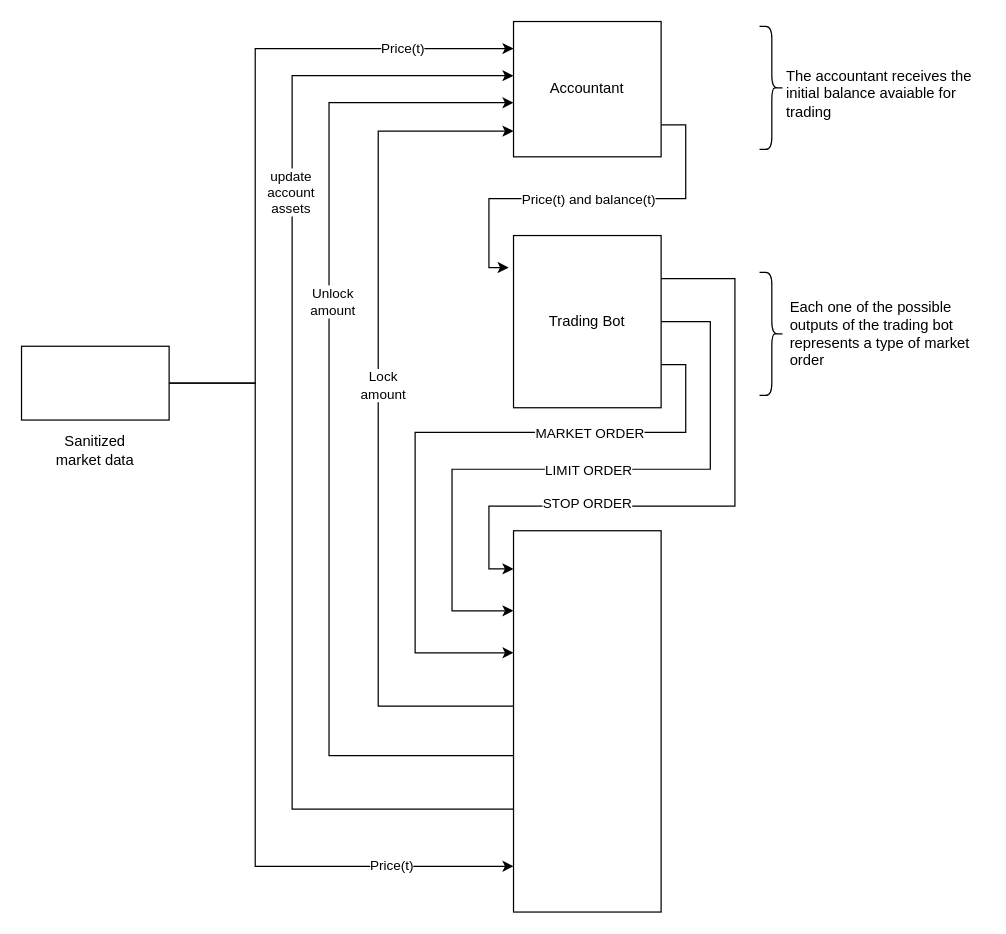
Image size: 1006x934. Some labels were removed from this diagram. Each missing label, with the centre of its shape:
"Broker" goes at point (586, 721).
"Input" goes at point (94, 382).
